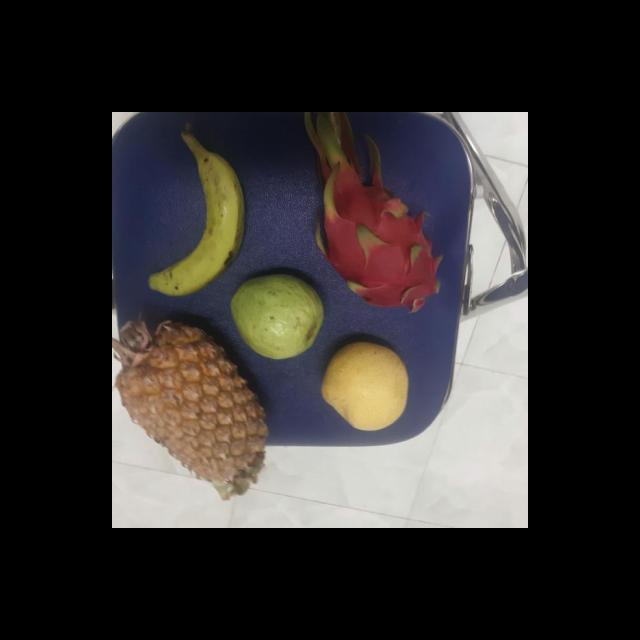banana: (148, 152, 250, 294)
guava: (233, 273, 328, 359)
pear: (318, 340, 414, 436)
pineapple: (116, 314, 270, 486)
pitaya: (314, 166, 447, 310)
